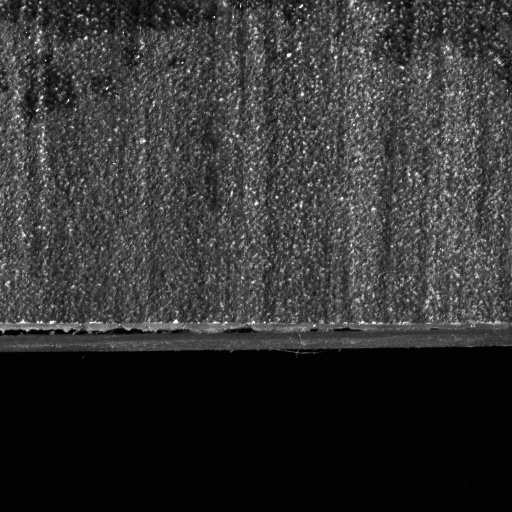kaijiao: (0, 316, 362, 358)
